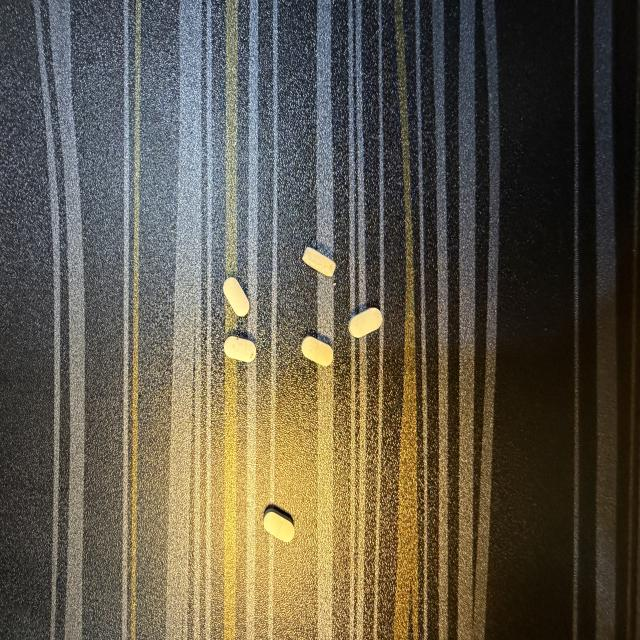pill: (264, 507, 294, 542), (303, 247, 335, 277), (349, 308, 382, 337), (224, 278, 249, 316), (302, 336, 333, 366), (224, 336, 256, 362)
